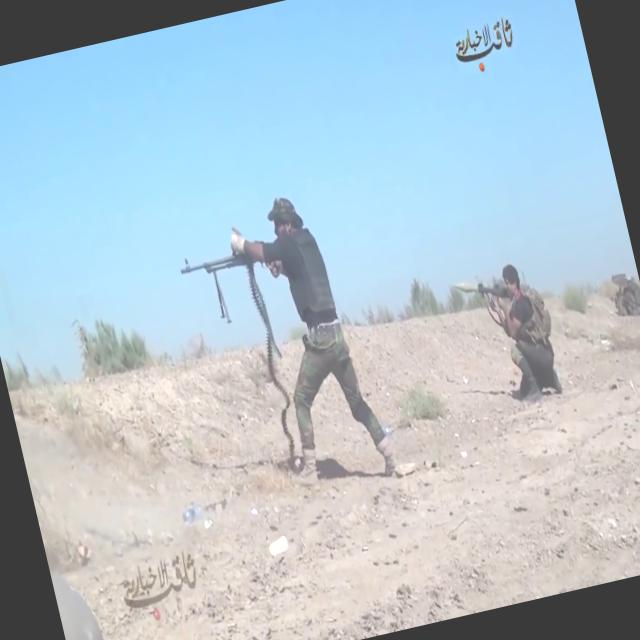long weapon: (169, 224, 286, 336)
